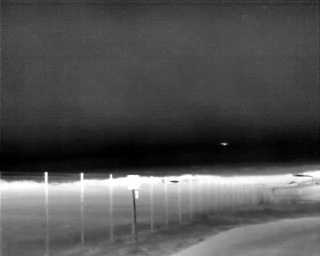AIRPLANE: (219, 140, 229, 148)
